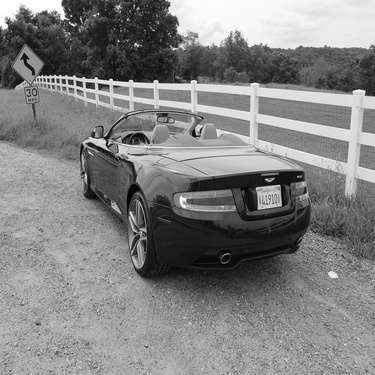car: (72, 106, 315, 279)
